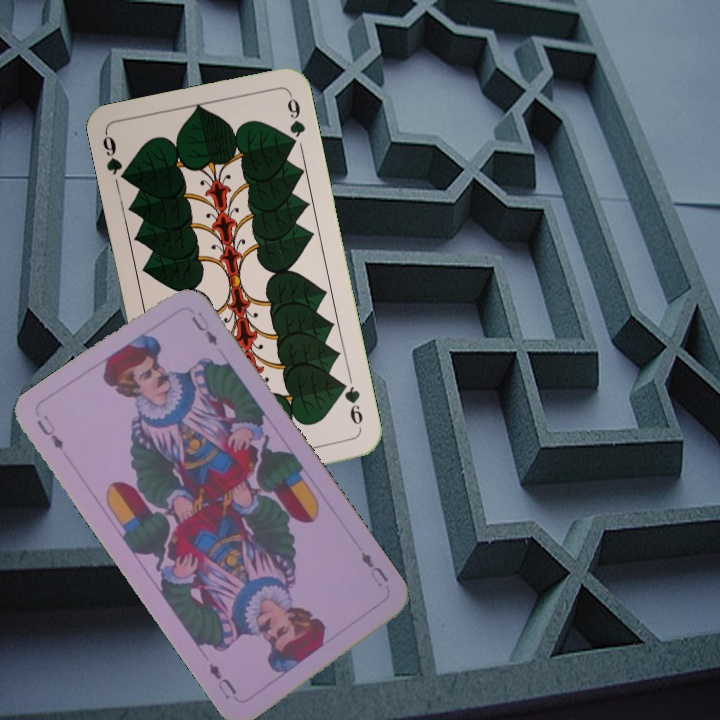EU: (353, 542, 392, 590), (32, 410, 66, 453)
G9: (98, 129, 132, 185), (336, 377, 365, 433)
